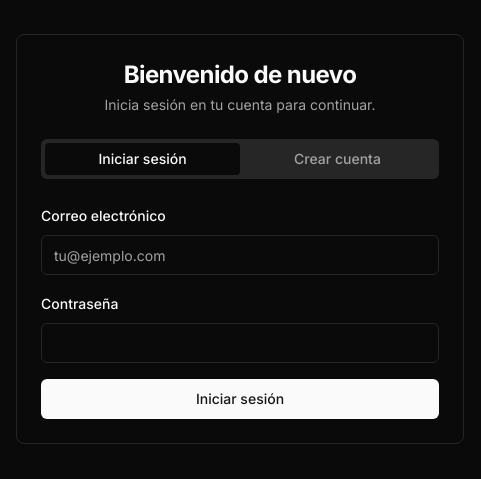
Test: LoginPage form › shows server error message when credentials are invalid
In the field labelled "Correo electrónico": (240, 255) [41,235,439,275], type "a@b.com"
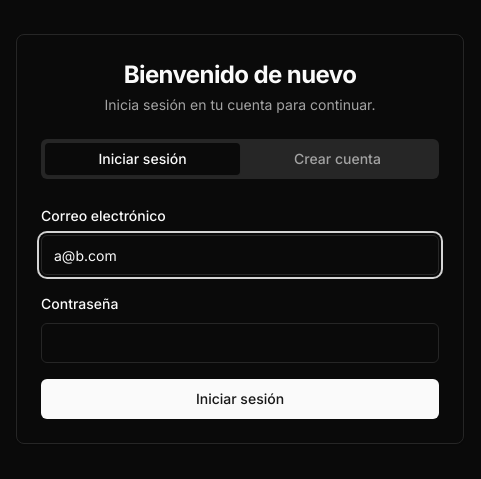
In the password field labelled "Contraseña": (240, 343) [41,323,439,363], type "wrongpass"
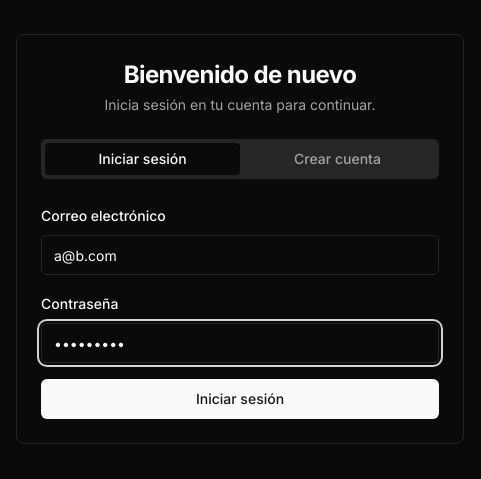
Click the button "Iniciar sesión": (240, 399) [41,379,439,419]
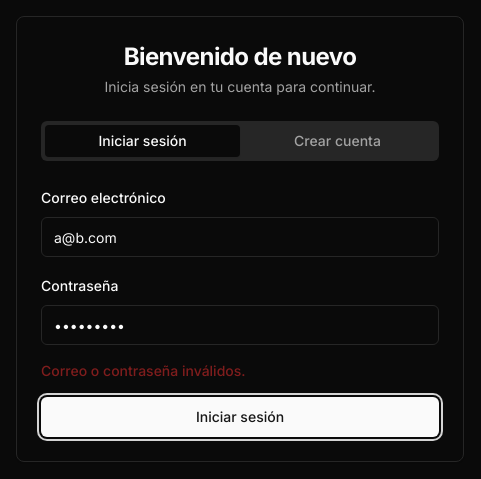
Check: the text "Correo o contraseña inválidos." is shown, box [41,362,246,379]
